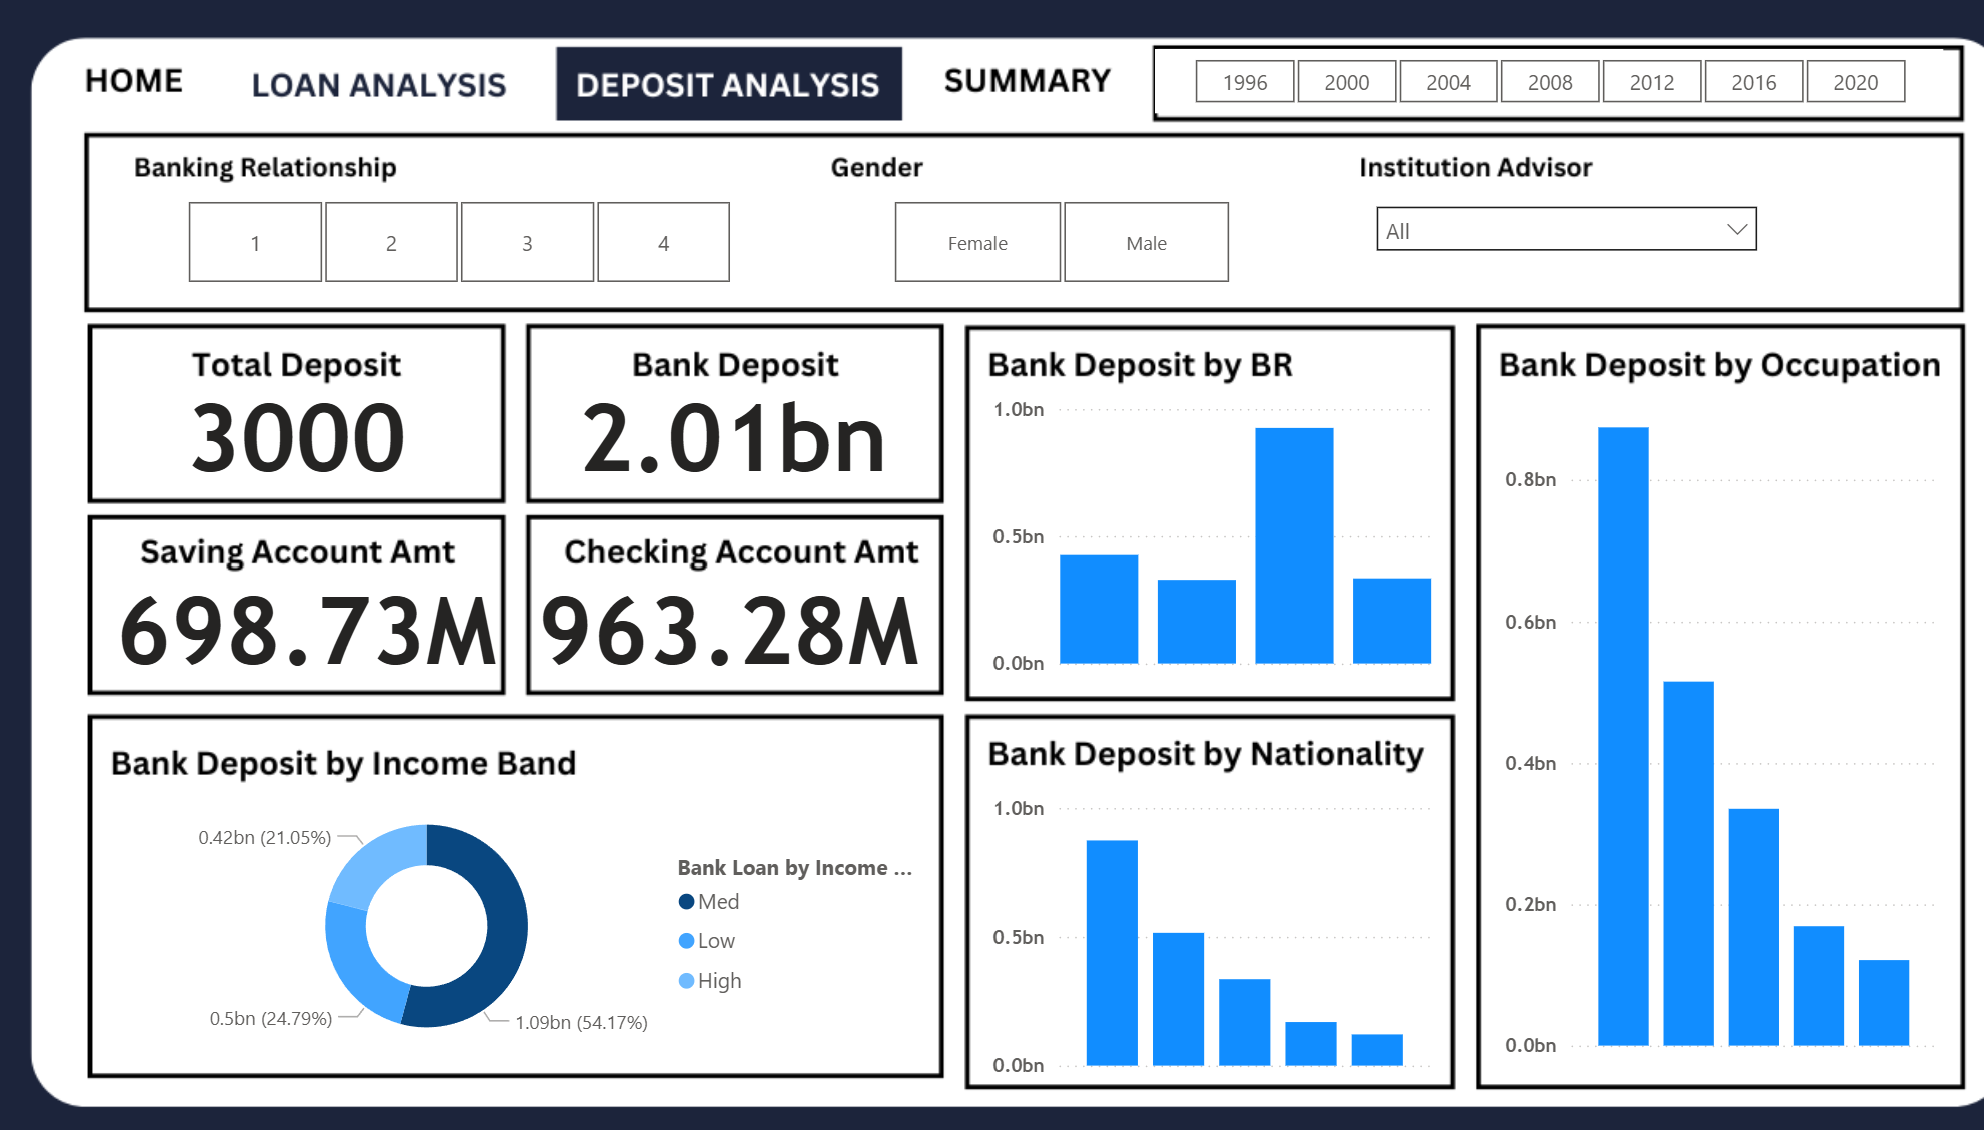

The page's visual inventory and layout, read from the dashboard file:
{"tool":"powerbi","page":{"name":"Deposit Analysis","canvas":[1280,750],"ordinal":2},"visuals":[{"type":"actionButton","box":[57.4,59.9,99.4,39.5],"z":0},{"type":"actionButton","box":[168.3,61.2,174.7,39.5],"z":1000},{"type":"actionButton","box":[368.4,61.2,220.6,39.5],"z":2000},{"type":"actionButton","box":[600.5,61.2,132.6,39.5],"z":3000},{"type":"slicer","fields":{"Values":["Gender.Gender"]},"box":[557.1,150.4,262.6,65],"z":4000},{"type":"slicer","fields":{"Values":["Banking Relationship.BRId"]},"box":[107.1,150.4,395.2,65],"z":5000},{"type":"slicer","fields":{"Values":["Banking_Clients.Joined Bank.Variation.Date Hierarchy.Year"]},"box":[748.4,59.9,502.3,40.8],"z":6000},{"type":"slicer","fields":{"Values":["Banking_Clients.IAId"]},"box":[879.7,150.4,262.6,65],"z":7000},{"type":"card","fields":{"Values":["CountNonNull(Banking_Clients.Bank Deposits)"]},"box":[98.2,265.2,206.5,75.2],"z":8000},{"type":"card","fields":{"Values":["Sum(Banking_Clients.Bank Deposits)"]},"box":[348,265.2,263.9,75.2],"z":9000},{"type":"card","fields":{"Values":["Sum(Banking_Clients.Saving Accounts)"]},"box":[72.7,387.6,270.3,75.2],"z":10000},{"type":"card","fields":{"Values":["Sum(Banking_Clients.Checking Accounts)"]},"box":[341.7,387.6,270.3,75.2],"z":11000},{"type":"donutChart","fields":{"Category":["Banking_Clients.Income Band"],"Y":["Sum(Banking_Clients.Bank Deposits)"]},"box":[119.8,529.1,480.6,178.5],"z":12000},{"type":"clusteredColumnChart","title":"Bank Loan by BR","fields":{"Category":["Banking Relationship.BRId"],"Y":["Sum(Banking_Clients.Bank Deposits)"]},"box":[640,275.4,289.4,188.7],"z":13000},{"type":"clusteredColumnChart","title":"Bank Loan by Nationality","fields":{"Category":["Banking_Clients.Nationality"],"Y":["Sum(Banking_Clients.Bank Deposits)"]},"box":[640,529.1,289.4,191.2],"z":14000},{"type":"clusteredColumnChart","title":"Bank Loan by Nationality","fields":{"Category":["Banking_Clients.Nationality"],"Y":["Sum(Banking_Clients.Bank Deposits)"]},"box":[966.4,275.4,285.6,432.2],"z":15000}]}

Visuals, with their boxes in screenshot pixels (x1, y1, x2, y2), scaled from the page's 1280x750 canvas onto the 1984x1130 screenshot:
actionButton: <region>89, 90, 243, 150</region>
actionButton: <region>261, 92, 532, 152</region>
actionButton: <region>571, 92, 913, 152</region>
actionButton: <region>931, 92, 1136, 152</region>
slicer - Gender.Gender: <region>864, 227, 1271, 325</region>
slicer - Banking Relationship.BRId: <region>166, 227, 779, 325</region>
slicer - Banking_Clients.Joined Bank.Variation.Date Hierarchy.Year: <region>1160, 90, 1939, 152</region>
slicer - Banking_Clients.IAId: <region>1364, 227, 1771, 325</region>
card - CountNonNull(Banking_Clients.Bank Deposits): <region>152, 400, 472, 513</region>
card - Sum(Banking_Clients.Bank Deposits): <region>539, 400, 948, 513</region>
card - Sum(Banking_Clients.Saving Accounts): <region>113, 584, 532, 697</region>
card - Sum(Banking_Clients.Checking Accounts): <region>530, 584, 949, 697</region>
donutChart - Banking_Clients.Income Band x Sum(Banking_Clients.Bank Deposits): <region>186, 797, 931, 1066</region>
"Bank Loan by BR" clusteredColumnChart: <region>992, 415, 1441, 699</region>
"Bank Loan by Nationality" clusteredColumnChart: <region>992, 797, 1441, 1085</region>
"Bank Loan by Nationality" clusteredColumnChart: <region>1498, 415, 1941, 1066</region>
